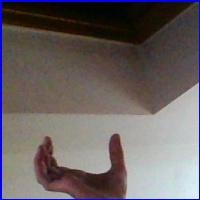space: (23, 129, 140, 197)
